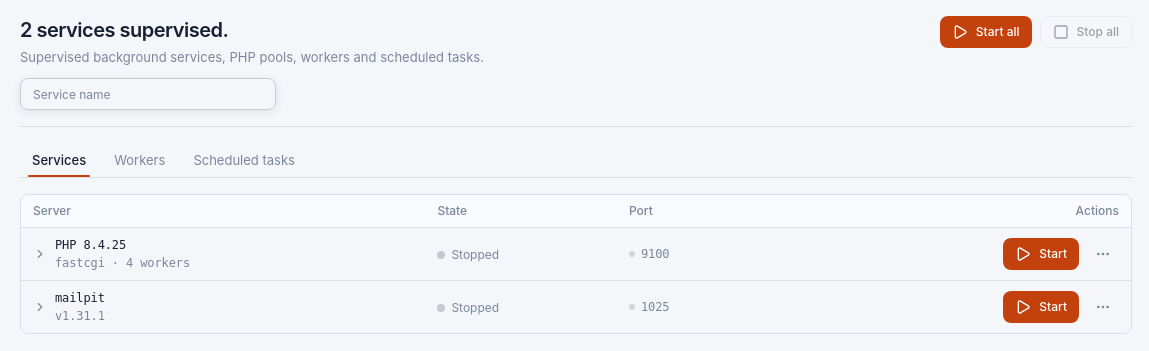
ServicesPage › narrows the list with the search filter
Expected: the text "mailpit" is shown, [55,289,105,307]
Type "mail" into the field named "search services". click: (148, 94)
box: [20,78,276,110]
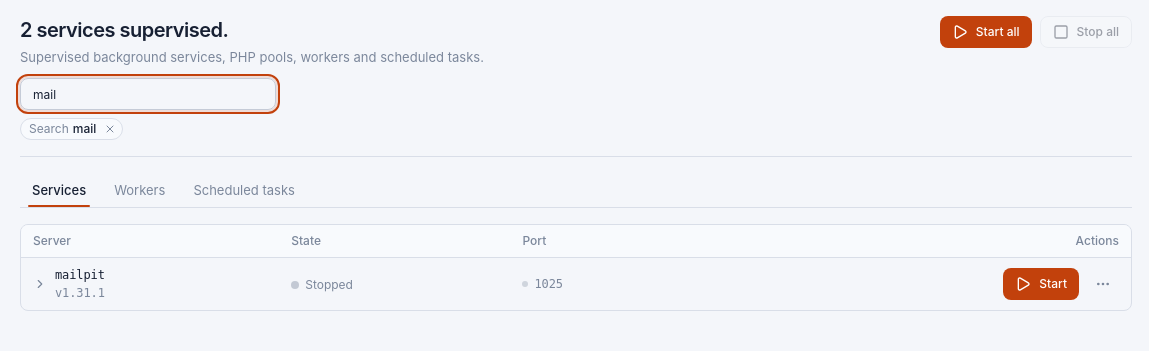
Expected: the text "mailpit" is shown, [55,266,105,284]
Result: the button "PHP 8.4.25" is gone
Note: §61: the active filter is removable from its own chip.
Click the button named "clear search filter". click: (110, 129)
box: [102,121,118,137]
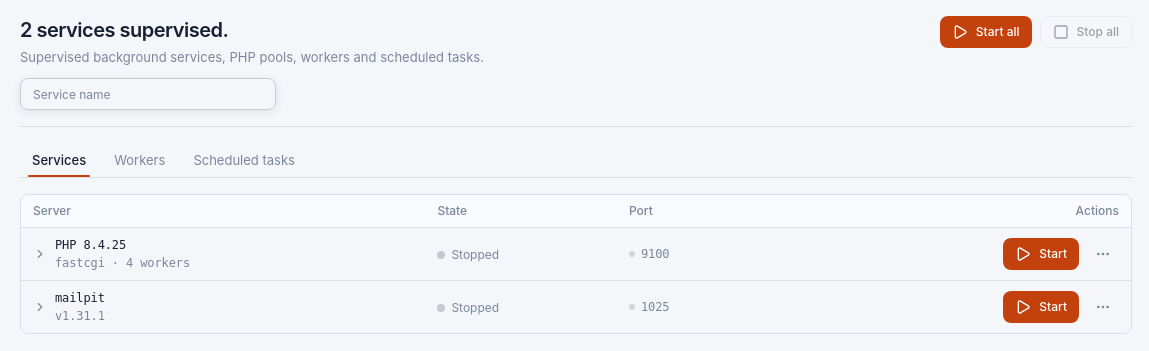
Result: the text "PHP 8.4.25" is shown at [55,238,126,252]
